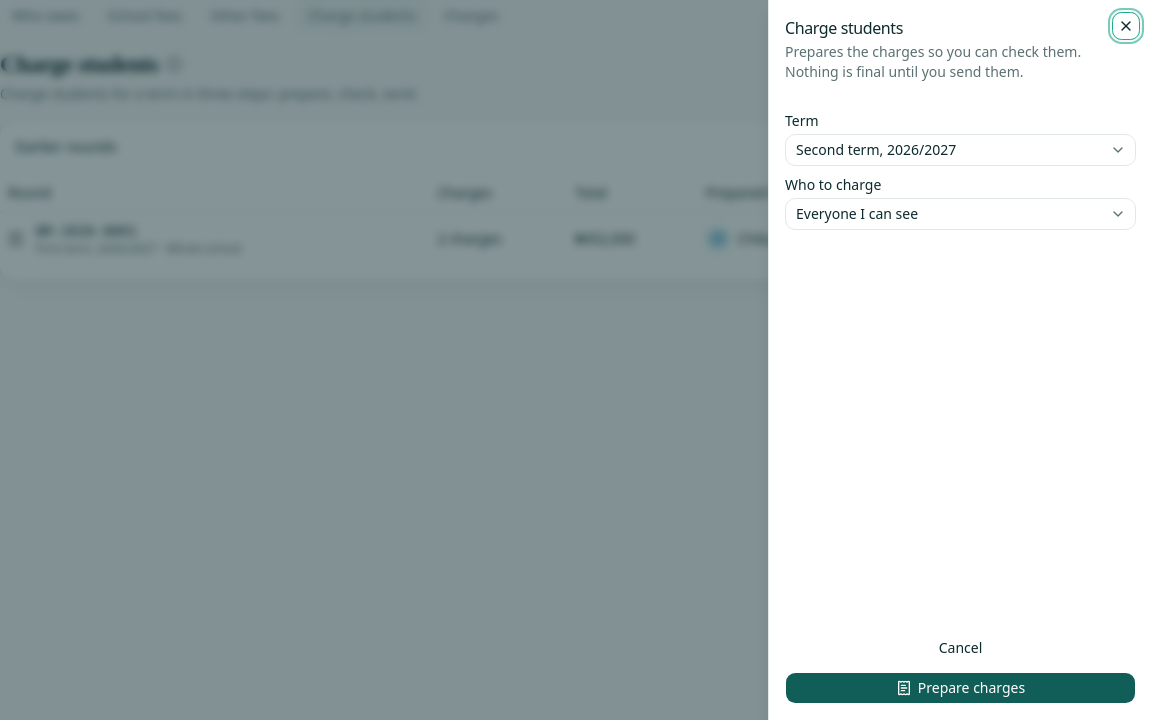
the prepare sheet › asks before preparing and sends nothing when cancelled
Expected: the dropdown labelled "Term" is shown, [785,134,1136,166]
Click the button "Prepare charges": (960, 688) [785,672,1136,704]
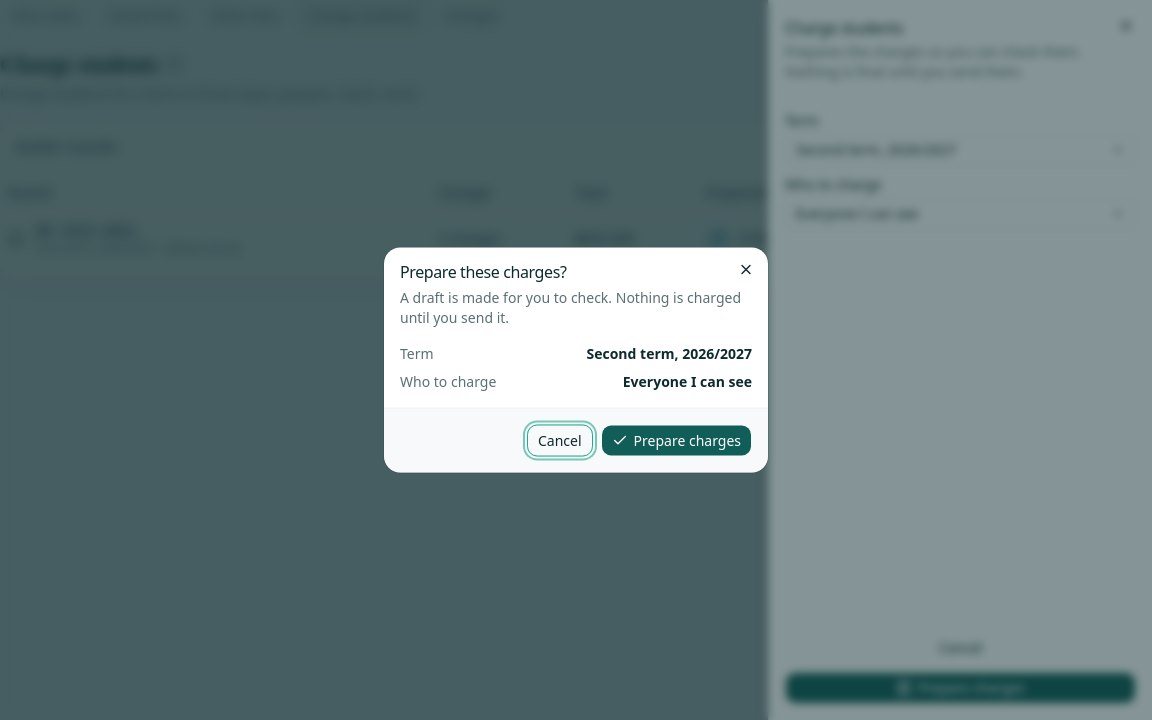
Expected: the text "Everyone I can see" is shown, [623,372,752,392]
Click the button "Cancel": (560, 440) [527,424,593,456]
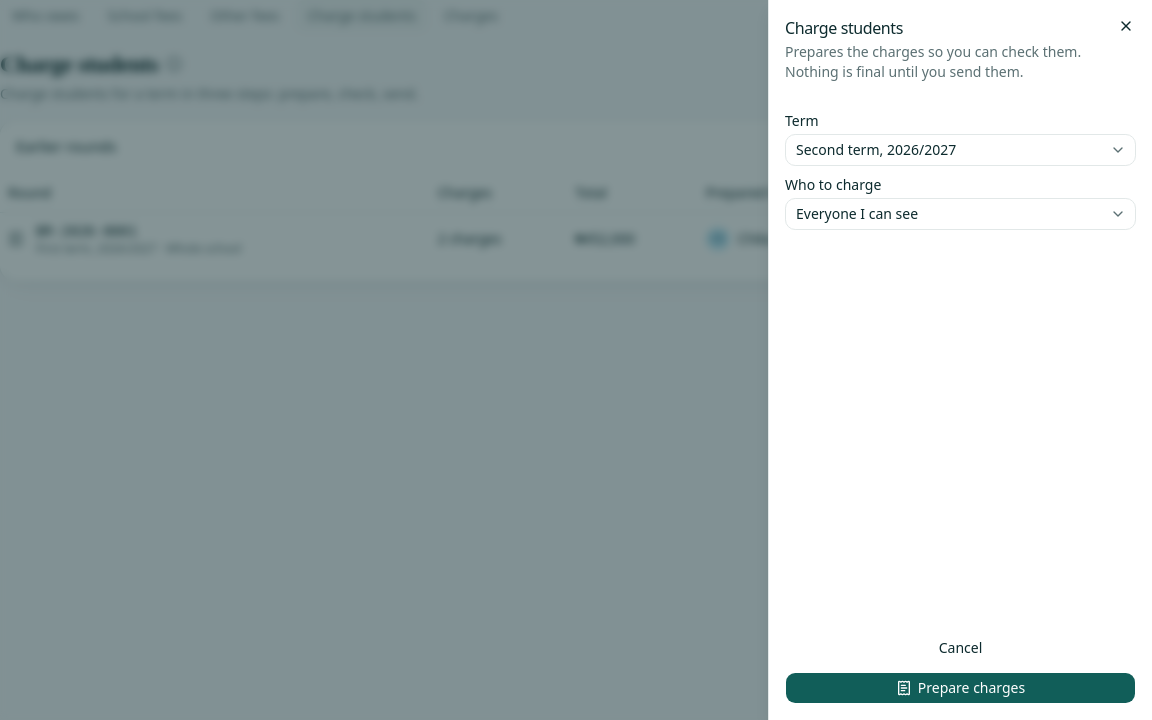
Expected: the heading "Prepare these charges?" is gone
